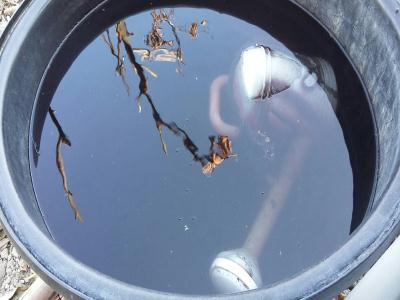bucket: (2, 1, 400, 300)
